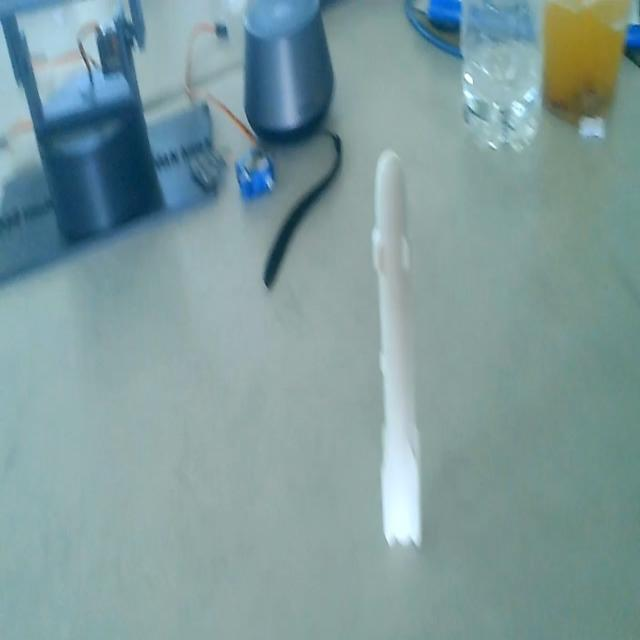Rocket: (368, 146, 429, 556)
